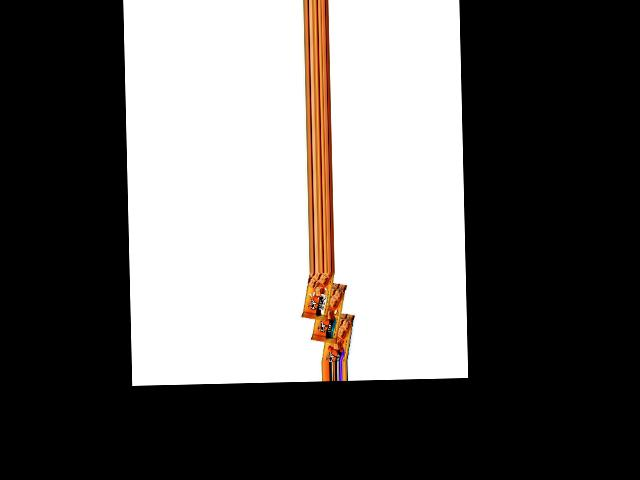chocolate: (319, 308, 352, 362)
